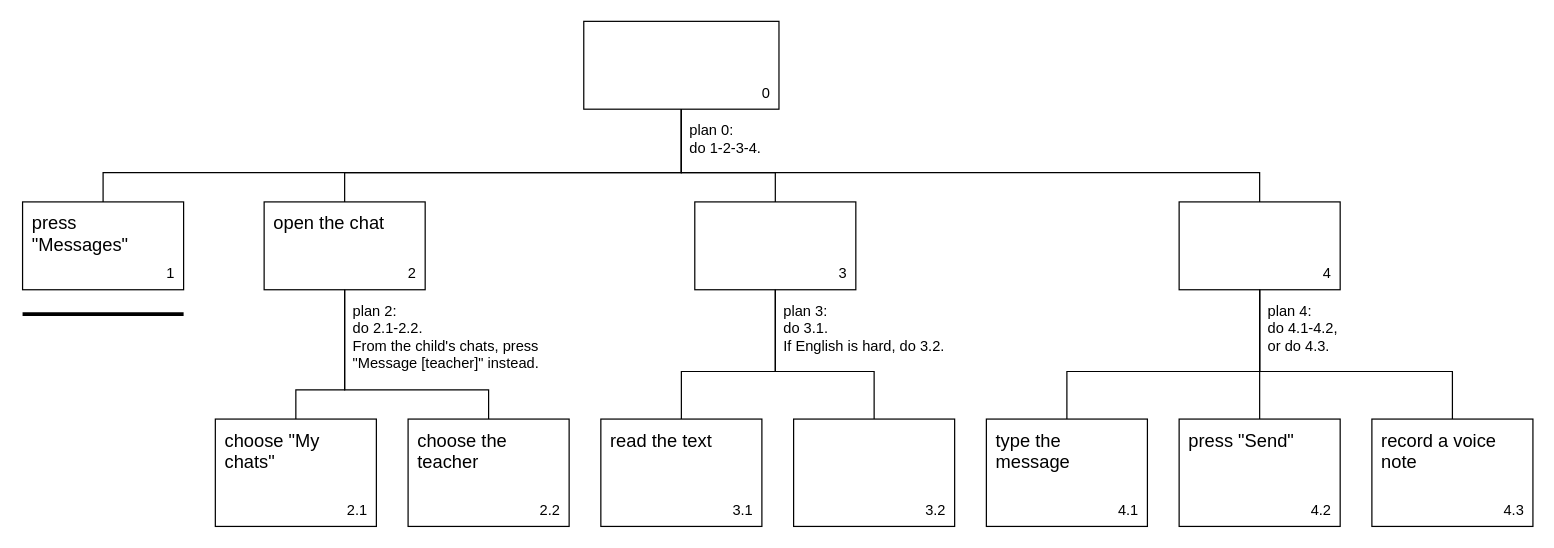
This 1554x548 diagram has some shape labels left out. Here are the shapes that lost their labels. From the top down, the box of each, then its label:
(583, 20, 779, 109): Message a teacher
(694, 201, 856, 290): read the message
(1178, 201, 1340, 290): reply
(792, 418, 955, 526): press "Translate to Arabic"
